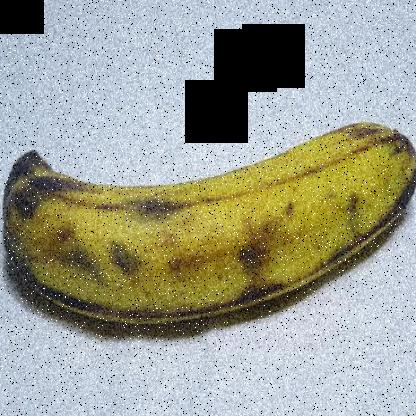overripe: (1, 94, 415, 335)
